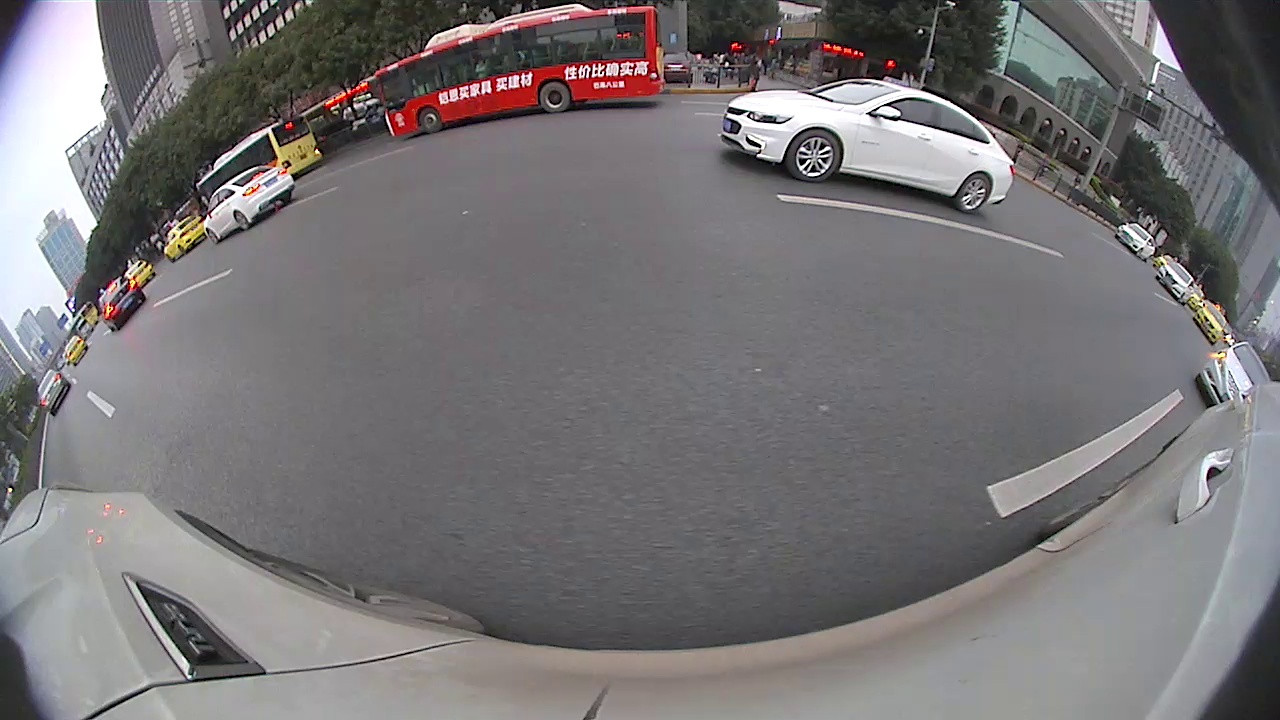bus: (374, 5, 669, 139), (195, 115, 324, 207)
car: (719, 78, 1016, 215), (202, 165, 297, 244), (1195, 341, 1271, 410), (96, 276, 146, 334), (162, 214, 208, 264), (1155, 260, 1196, 306), (36, 367, 72, 418), (1113, 221, 1156, 263), (1191, 302, 1228, 345)
front: (787, 129, 842, 182), (420, 107, 442, 133), (205, 229, 218, 243)
rear: (956, 173, 991, 213), (539, 83, 570, 112), (233, 213, 249, 229)
